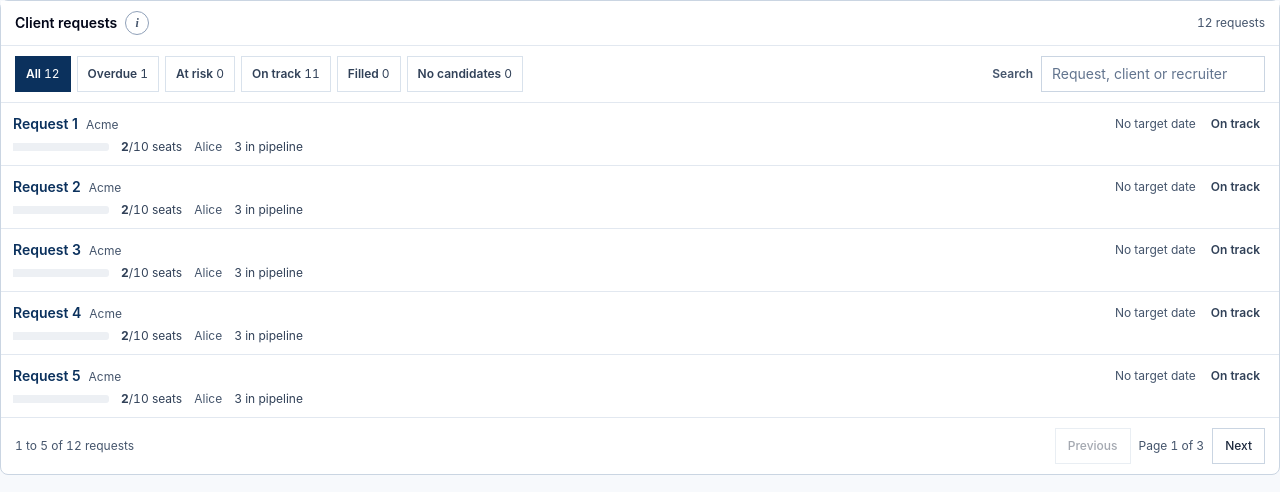
it: Analytics Components Test Suite › filters client requests by status and search, and pages the rest
This screenshot has width=1280, height=492.
Expected: the text "1 to 5 of 12 requests" is shown, x1=15 y1=438 x2=134 y2=454
Expected: the button "On track 11" is shown, x1=241 y1=56 x2=331 y2=92
Click the button "Overdue 1": coordinates (118, 74) x1=77 y1=56 x2=159 y2=92
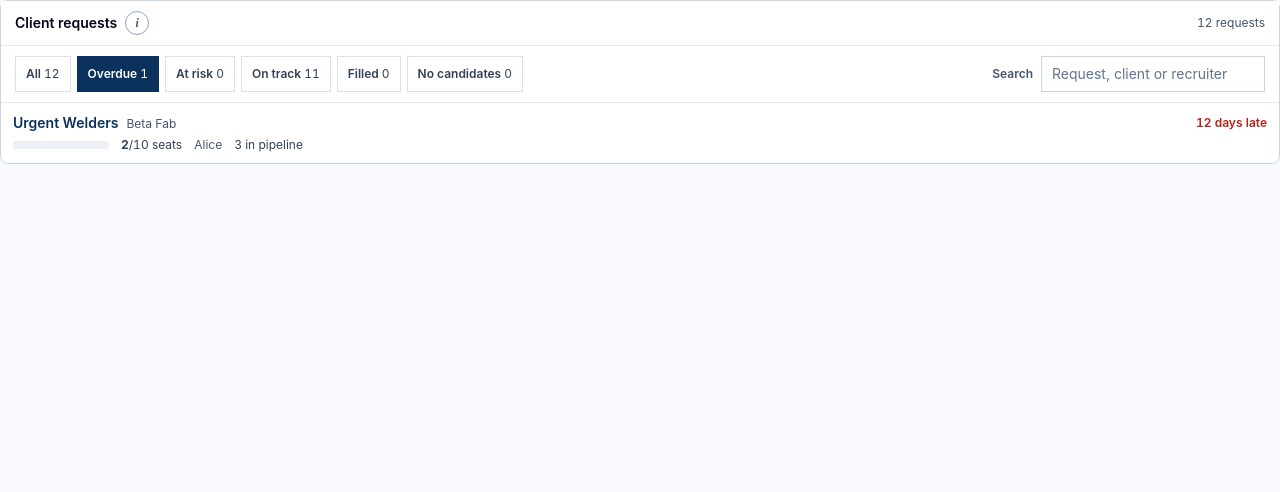
Click the button "All 12": coordinates (43, 74) x1=15 y1=56 x2=71 y2=92
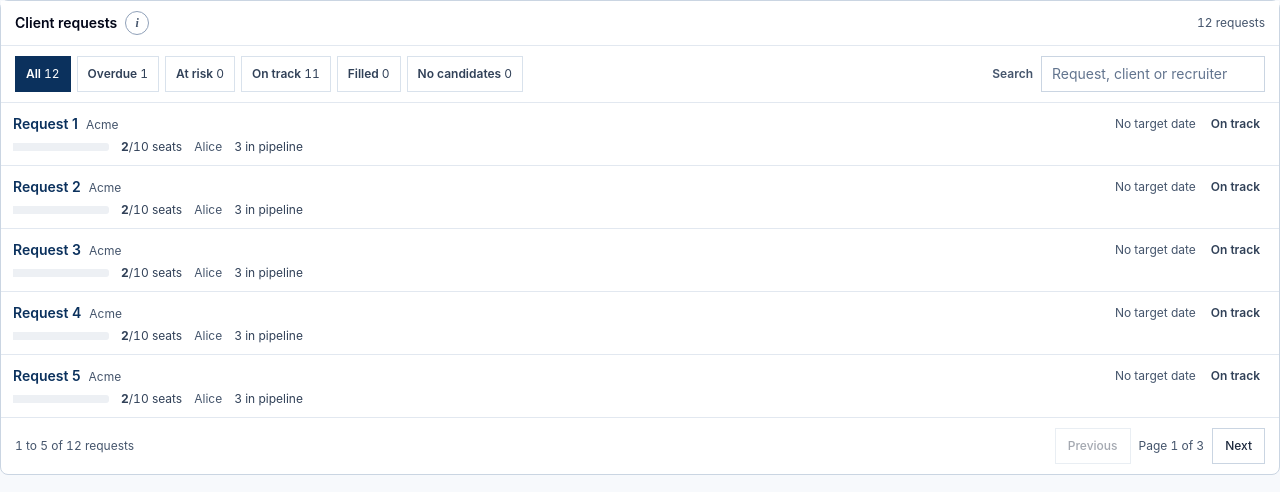
In the search field with placeholder "Request, client or recruiter": coordinates (1153, 74) x1=1041 y1=56 x2=1265 y2=92, type "beta"
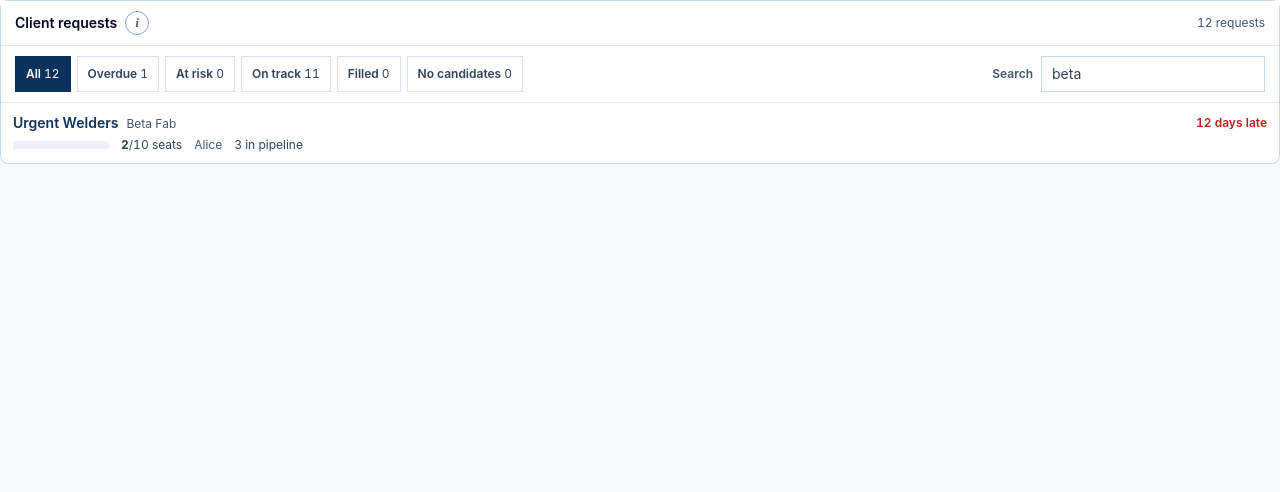
Replace the text in the search field with placeholder "Request, client or recruiter" with "nothing like this": coordinates (1153, 74) x1=1041 y1=56 x2=1265 y2=92
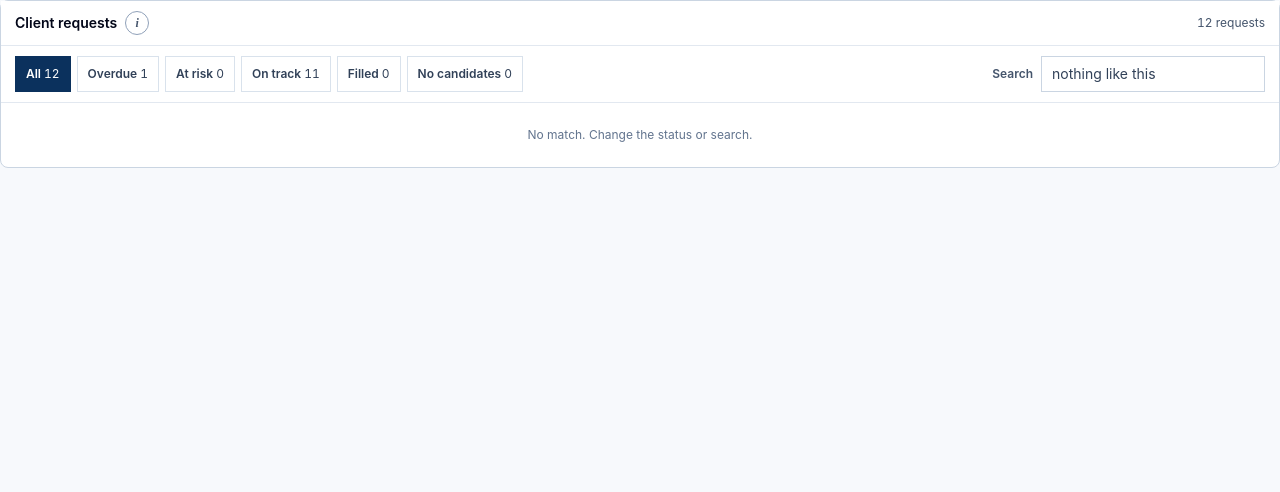
Result: the text "No match. Change the status or search." is shown at x1=528 y1=127 x2=753 y2=142
